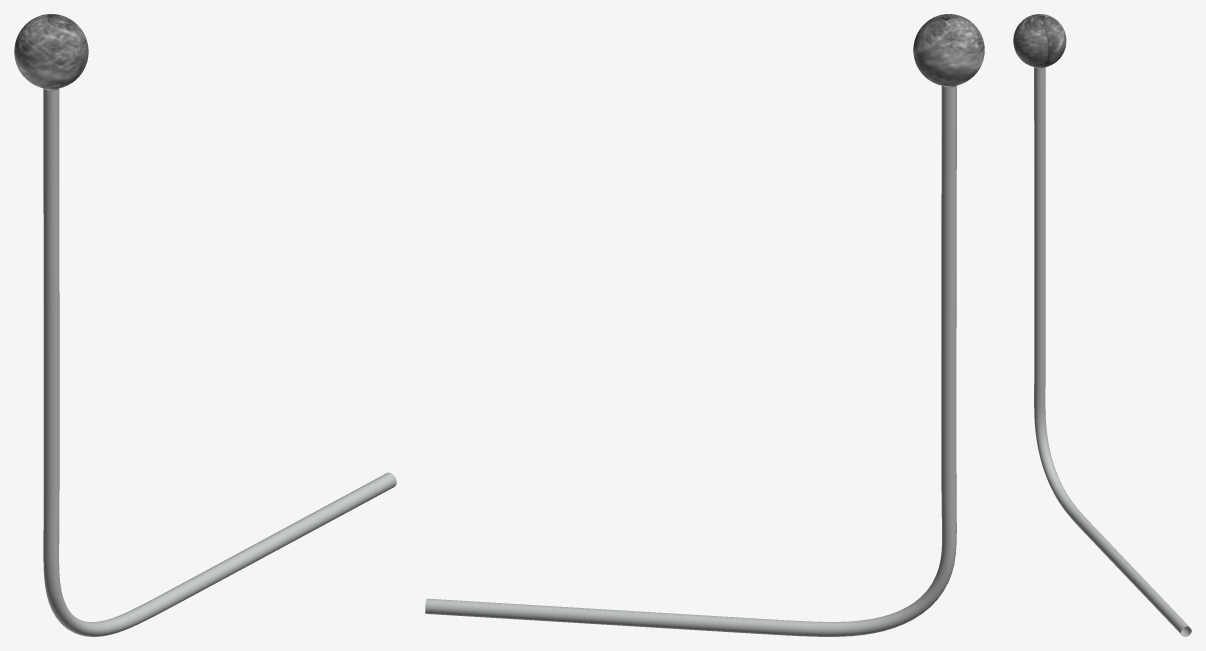
The model's file is orrery_planeta8.glb.
The picture shows the model from 3 angles, left to right: view 1: azimuth 30°, elevation 25°; view 2: azimuth 150°, elevation 25°; view 3: azimuth 270°, elevation 25°; orthographic projection. The views are drawn at different scales.
Parts seen in each view (by area): view 1: polySurface9_modelUniverseMaterial_0; view 2: polySurface9_modelUniverseMaterial_0; view 3: polySurface9_modelUniverseMaterial_0.
Boxes of the visible parts, x1,y1,x2,y2 form: polySurface9_modelUniverseMaterial_0: (14,14,396,636); polySurface9_modelUniverseMaterial_0: (425,14,984,636); polySurface9_modelUniverseMaterial_0: (1013,14,1191,636).
Bounding box in the file's own units: 0.1026 × 0.1345 × 0.0466.
1 material, 1 textured.
